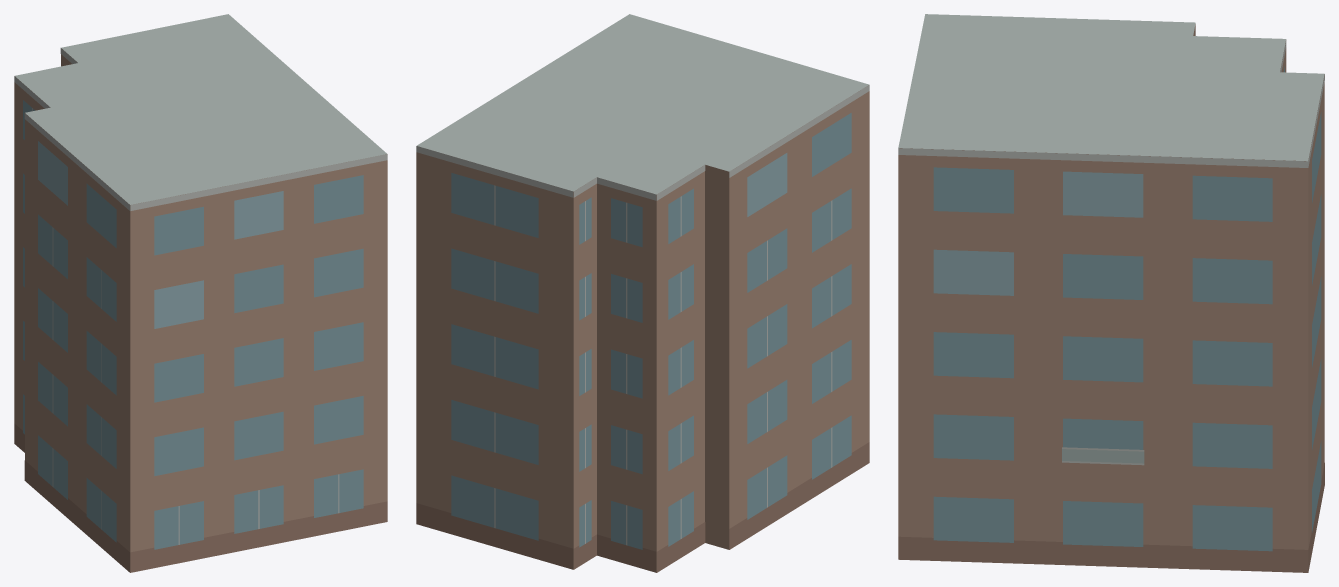
The model's file is survey-upis-32869577.glb.
3 renders of one model, left to right at view 1: azimuth 30°, elevation 25°; view 2: azimuth 150°, elevation 25°; view 3: azimuth 270°, elevation 25°, orthographic. The views are drawn at different scales.
Visible parts, largest first — view 1: survey-upis-32869577.tmp; view 2: survey-upis-32869577.tmp; view 3: survey-upis-32869577.tmp.
Part boxes in pixels (x1,y1,x2,y2): survey-upis-32869577.tmp: (14, 14, 387, 572); survey-upis-32869577.tmp: (416, 14, 869, 572); survey-upis-32869577.tmp: (898, 14, 1324, 572).
Size of the model in its own units: 11.13 by 14.5 by 13.62.
